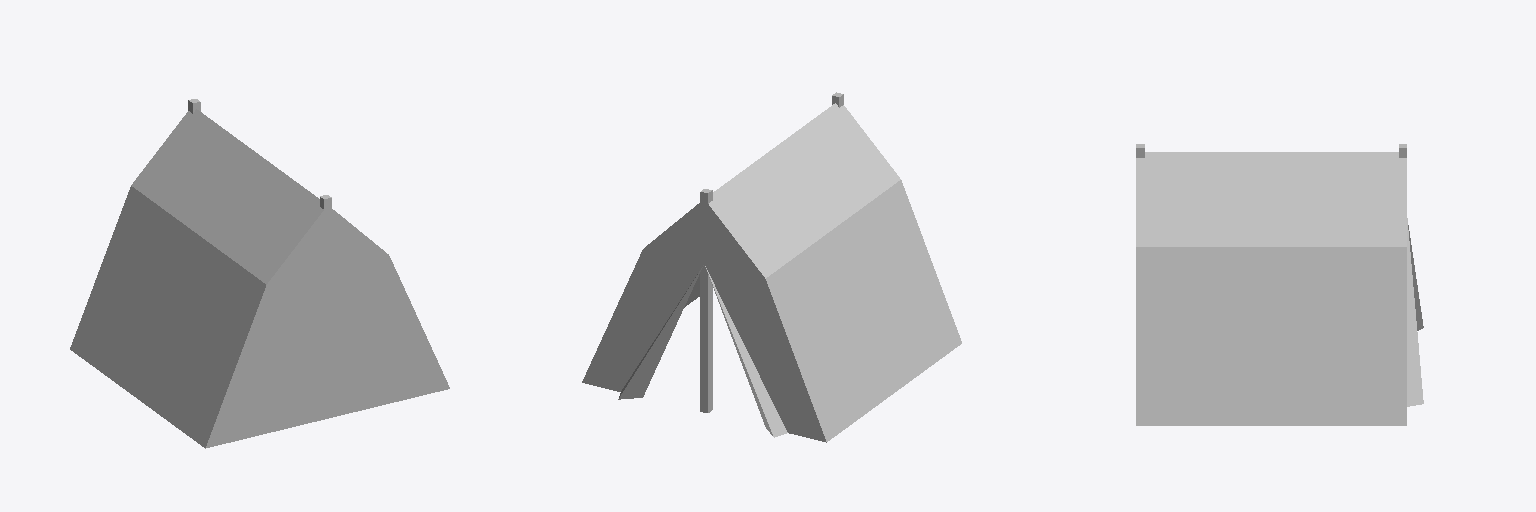
The model's file is barraca.obj.
The picture shows the model from 3 angles: view 1: azimuth 30°, elevation 25°; view 2: azimuth 150°, elevation 25°; view 3: azimuth 270°, elevation 25°; orthographic projection.
Parts seen in each view (by area): view 1: Mesh1_Group1_Model.019; view 2: Mesh1_Group1_Model.019; view 3: Mesh1_Group1_Model.019.
Boxes of the visible parts, x1=… form: Mesh1_Group1_Model.019: x1=70, y1=99, x2=449, y2=448; Mesh1_Group1_Model.019: x1=582, y1=92, x2=961, y2=442; Mesh1_Group1_Model.019: x1=1136, y1=144, x2=1423, y2=425.
Bounding box in the file's own units: 3.36 × 2.88 × 3.42.